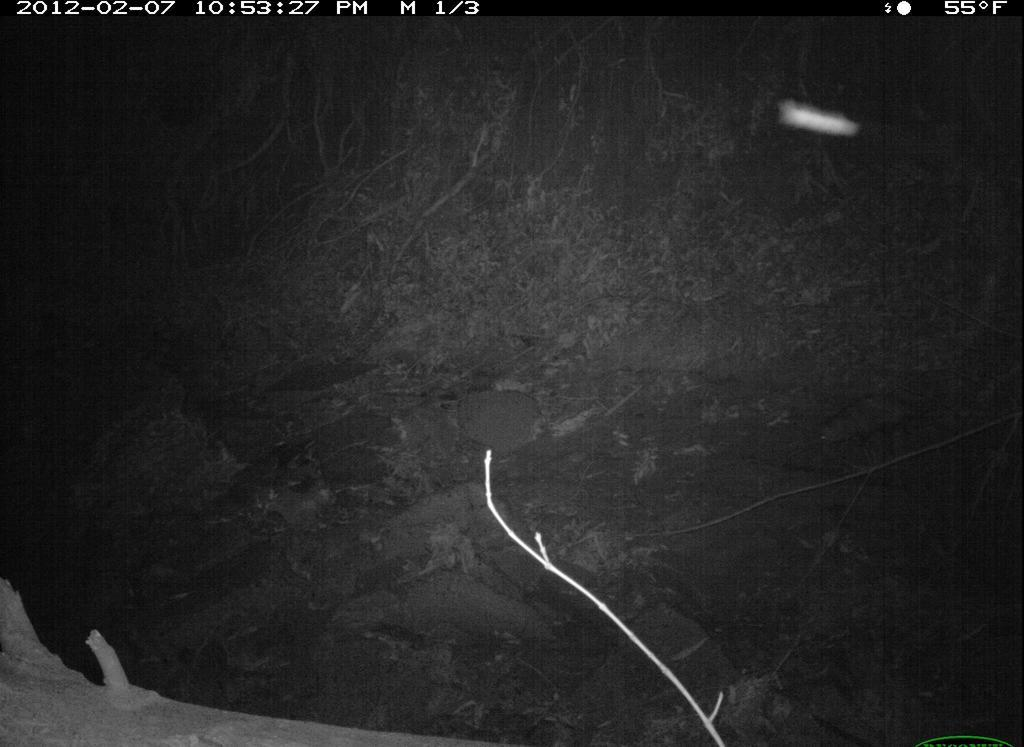opossum: (789, 367, 954, 455)
